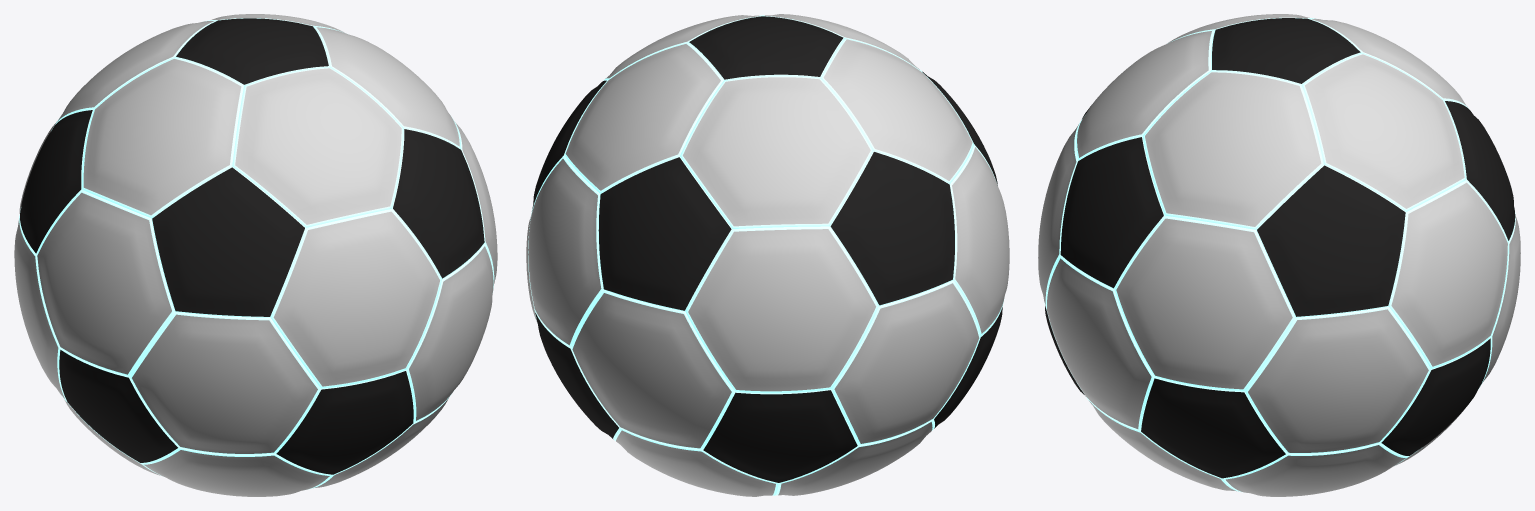
The model's file is ball.glb.
The picture shows the model from 3 angles, left to right: view 1: azimuth 30°, elevation 25°; view 2: azimuth 150°, elevation 25°; view 3: azimuth 270°, elevation 25°; orthographic projection.
Parts seen in each view (by area): view 1: Icosphere.001; view 2: Icosphere.001; view 3: Icosphere.001.
Part boxes in pixels (bbox=[...]): Icosphere.001: bbox=[14, 14, 497, 496]; Icosphere.001: bbox=[526, 14, 1009, 496]; Icosphere.001: bbox=[1038, 14, 1520, 496].
Bounding box in the file's own units: 1.85 × 1.86 × 1.85.
